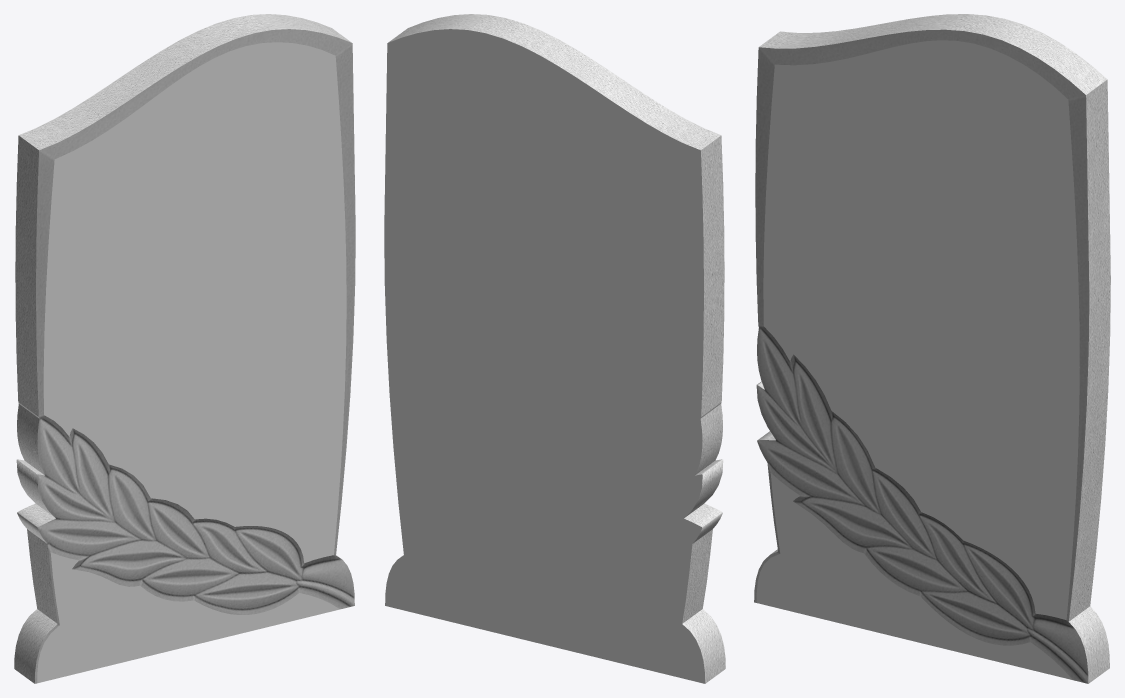
File: cn27ccfc93d9_tkf.glb
3 renders of one model, left to right at view 1: azimuth 30°, elevation 25°; view 2: azimuth 150°, elevation 25°; view 3: azimuth 330°, elevation 25°, orthographic. The views are drawn at different scales.
Visible parts, largest first — view 1: Pam-d03-305, Pam-d03-305_2_notexture; view 2: Pam-d03-305, Pam-d03-305_2_notexture; view 3: Pam-d03-305, Pam-d03-305_2_notexture.
Boxes of the visible parts, x1,y1,x2,y2 form: Pam-d03-305: (37, 42, 346, 683); Pam-d03-305_2_notexture: (14, 14, 355, 683); Pam-d03-305: (384, 29, 705, 683); Pam-d03-305_2_notexture: (388, 14, 725, 683); Pam-d03-305: (756, 40, 1079, 679); Pam-d03-305_2_notexture: (754, 14, 1110, 683).
Size of the model in its own units: 0.45 by 0.8 by 0.05.
Materials: 1 (1 with a texture image).
